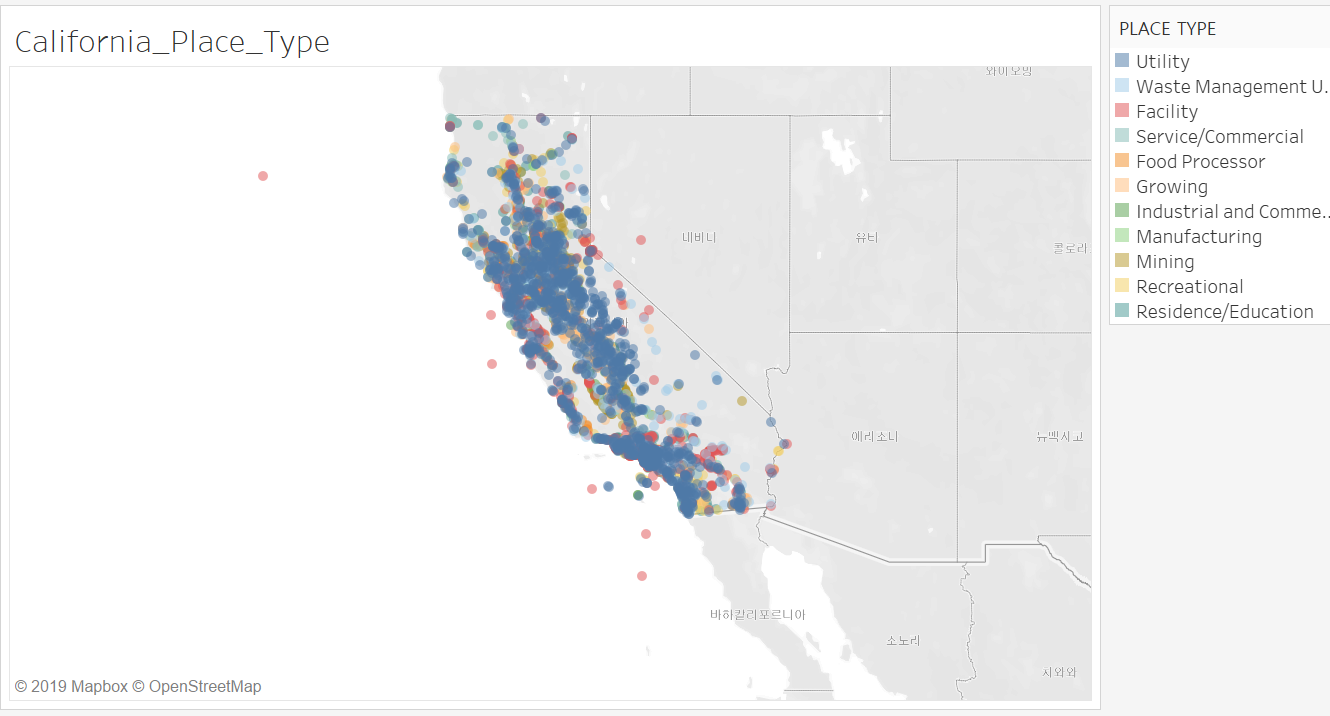

The dashboard page shown, as its layout file describes it:
{"tool":"tableau","page":{"name":"DashBoard","canvas":[1000,800],"ordinal":0},"visuals":[{"type":"worksheet","title":"California_map","mark":"Automatic","rows":["PLACE LATITUDE"],"cols":["PLACE LONGITUDE"],"box":[30,30,447,369]},{"type":"legend","title":"Place_type","param":"[federated.1dufmln0pl04dq1fo1amv182bpky].[none:PLACE TYPE:nk]","box":[214,432,176,318]}]}

Visuals, with their boxes on the page's 1000x800 design canvas (x1, y1, x2, y2). These are canvas units, not pixel positions in the 1330x716 screenshot, which may show the page scaled, cropped or inside an application window:
"California_map" worksheet: [x1=30, y1=30, x2=477, y2=399]
"Place_type" legend: [x1=214, y1=432, x2=390, y2=750]
